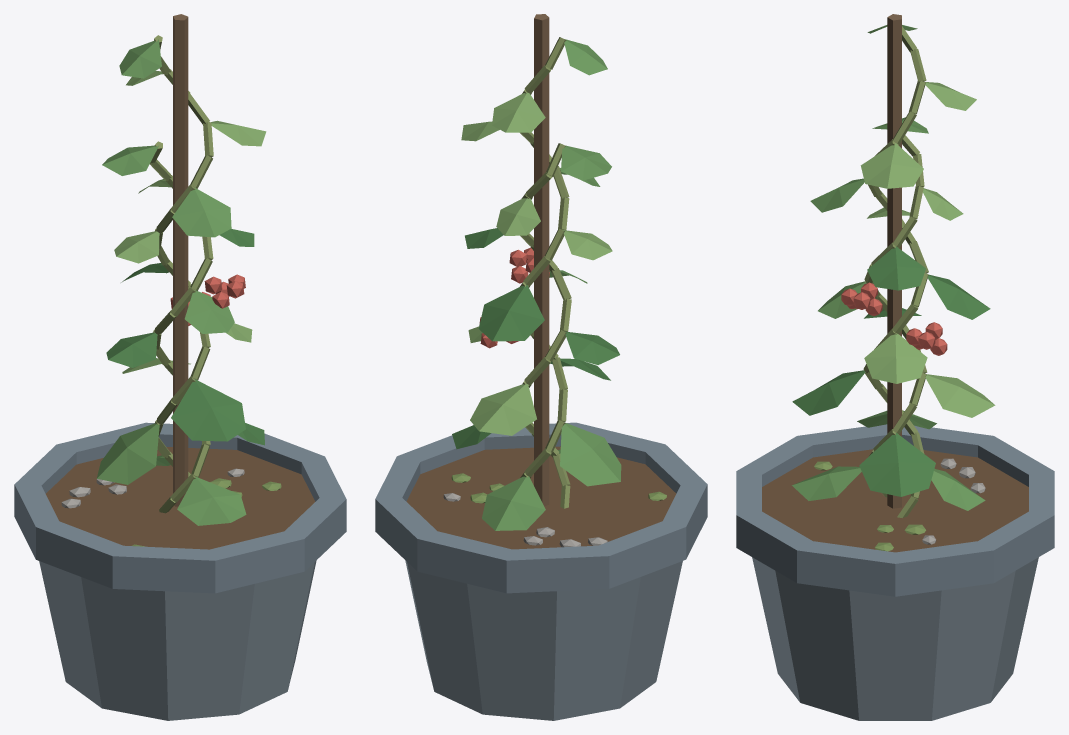
File: giloy.glb
3 views of the same model, side by side, from view 1: azimuth 30°, elevation 25°; view 2: azimuth 150°, elevation 25°; view 3: azimuth 270°, elevation 25° (orthographic).
Parts seen in each view (by area): view 1: pot, plant; view 2: pot, plant; view 3: pot, plant.
Part boxes in pixels (x1,y1,x2,y2): pot: [14, 422, 346, 720]; plant: [96, 14, 266, 525]; pot: [375, 422, 707, 720]; plant: [452, 14, 621, 530]; pot: [736, 424, 1054, 720]; plant: [792, 14, 995, 517].
Bounding box in the file's own units: 0.37 × 0.8 × 0.3519.
